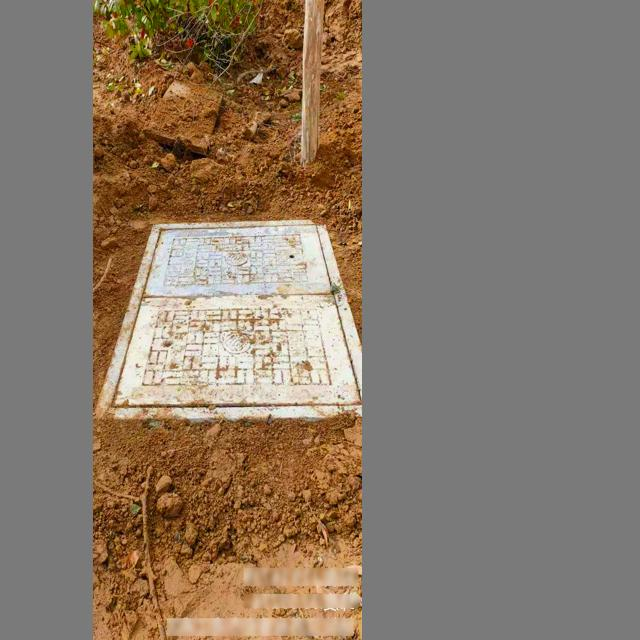good: (99, 210, 362, 419)
